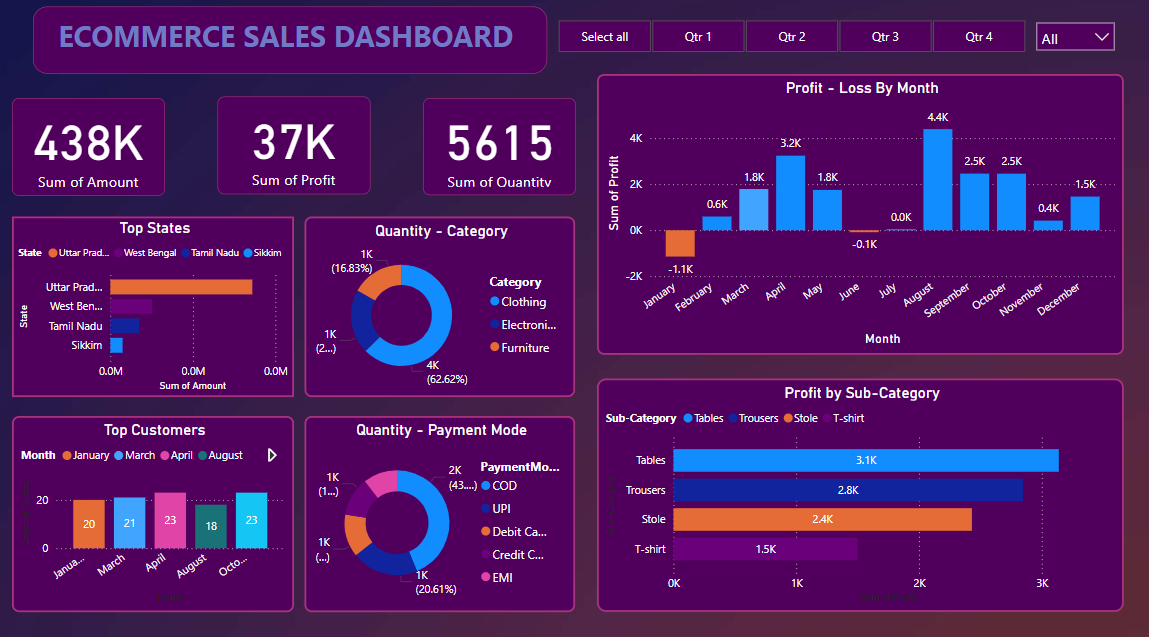

What the dashboard file says about the page in this screenshot:
{"tool":"powerbi","page":{"name":"Page 1","canvas":[1280,720],"ordinal":0},"visuals":[{"type":"textbox","box":[36.6,11.1,571,74.8],"z":0},{"type":"card","fields":{"Values":["Sum(Details.Amount)"]},"box":[13.3,113.3,170,108.3],"z":1000},{"type":"card","fields":{"Values":["Sum(Details.Profit)"]},"box":[241.7,111.7,170,108.3],"z":2000},{"type":"card","fields":{"Values":["Sum(Details.Quantity)"]},"box":[469.2,112.9,170.2,108.2],"z":3000},{"type":"slicer","fields":{"Values":["Orders.OrderDate.Variation.Date Hierarchy.Quarter"]},"box":[594.9,20.7,567.8,49.3],"z":4000},{"type":"slicer","fields":{"Values":["Orders.State"]},"box":[1142.1,1.6,106.6,68.4],"z":5000},{"type":"donutChart","title":"Quantity - Category","fields":{"Y":["Sum(Details.Quantity)"],"Category":["Details.Category"]},"box":[338.8,245,300.6,200.4],"z":6000},{"type":"donutChart","title":"Quantity - Payment Mode","fields":{"Y":["Sum(Details.Quantity)"],"Category":["Details.PaymentMode"]},"box":[338.8,466,300.6,217.9],"z":7000},{"type":"barChart","title":"Top States","fields":{"Category":["Orders.State"],"Y":["Sum(Details.Amount)"],"Series":["Orders.State"]},"box":[12.7,245,313.4,200.4],"z":8000},{"type":"columnChart","title":"Top Customers","fields":{"Category":["Orders.OrderDate.Variation.Date Hierarchy.Month"],"Y":["CountNonNull(Orders.CustomerName)"],"Series":["Orders.OrderDate.Variation.Date Hierarchy.Month"]},"box":[13,466,313,218],"z":9000},{"type":"columnChart","title":"Profit - Loss By Month","fields":{"Category":["Orders.OrderDate.Variation.Date Hierarchy.Month"],"Y":["Sum(Details.Profit)"]},"box":[663.3,85.9,585.3,311.8],"z":10000},{"type":"barChart","title":" Profit by Sub-Category ","fields":{"Y":["Sum(Details.Profit)"],"Category":["Details.Sub-Category"],"Series":["Details.Sub-Category"]},"box":[663.3,424.7,585.3,259.3],"z":11000}]}

Visuals, with their boxes in screenshot pixels (x1, y1, x2, y2), scaled from the page's 1280x720 canvas onto the 1149x637 screenshot:
textbox: detection(33, 10, 545, 76)
card - Sum(Details.Amount): detection(12, 100, 165, 196)
card - Sum(Details.Profit): detection(217, 99, 370, 195)
card - Sum(Details.Quantity): detection(421, 100, 574, 196)
slicer - Orders.OrderDate.Variation.Date Hierarchy.Quarter: detection(534, 18, 1044, 62)
slicer - Orders.State: detection(1025, 1, 1121, 62)
"Quantity - Category" donutChart: detection(304, 217, 574, 394)
"Quantity - Payment Mode" donutChart: detection(304, 412, 574, 605)
"Top States" barChart: detection(11, 217, 293, 394)
"Top Customers" columnChart: detection(12, 412, 293, 605)
"Profit - Loss By Month" columnChart: detection(595, 76, 1121, 352)
" Profit by Sub-Category " barChart: detection(595, 376, 1121, 605)
